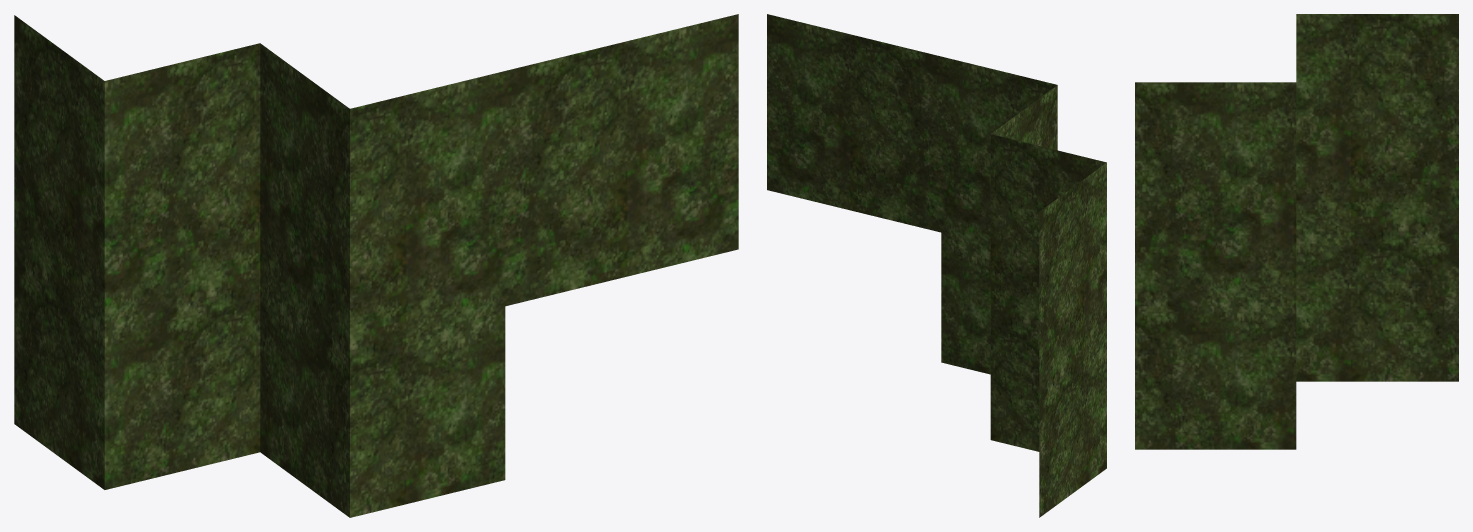
File: OVERHILL_A_01_LINE201.fbx
3 renders of one model, left to right at view 1: azimuth 30°, elevation 25°; view 2: azimuth 150°, elevation 25°; view 3: azimuth 270°, elevation 25°, orthographic. The views are drawn at different scales.
Parts seen in each view (by area): view 1: OVERHILL_A_01_LINE201; view 2: OVERHILL_A_01_LINE201; view 3: OVERHILL_A_01_LINE201.
Part boxes in pixels (bbox=[...]): OVERHILL_A_01_LINE201: bbox=[14, 14, 738, 517]; OVERHILL_A_01_LINE201: bbox=[767, 14, 1106, 517]; OVERHILL_A_01_LINE201: bbox=[1135, 14, 1458, 449].
Bounding box in the file's own units: 70000 × 50288 × 40148.
Materials: 1 (1 with a texture image).
